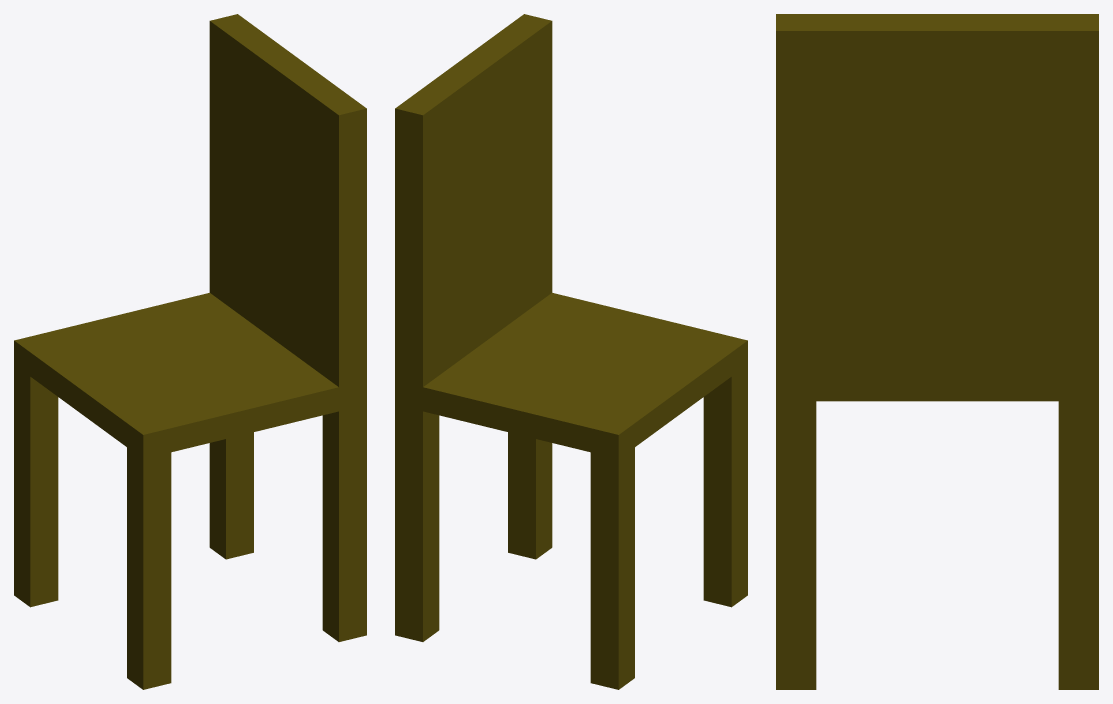
File: chair.fbx
3 renders of one model, left to right at view 1: azimuth 30°, elevation 25°; view 2: azimuth 150°, elevation 25°; view 3: azimuth 270°, elevation 25°, orthographic. The views are drawn at different scales.
Visible parts, largest first — view 1: pasted__pCube1; view 2: pasted__pCube1; view 3: pasted__pCube1.
Boxes of the visible parts, x1,y1,x2,y2 form: pasted__pCube1: (14, 14, 366, 689); pasted__pCube1: (395, 14, 747, 689); pasted__pCube1: (776, 14, 1098, 689).
Bounding box in the file's own units: 3.13 × 7.05 × 3.13.
